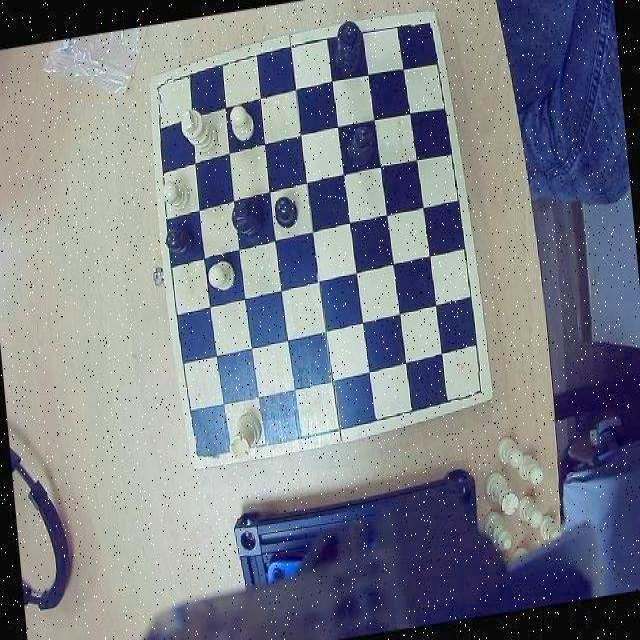chess-table-corners: (188, 433, 222, 467), (456, 370, 489, 404), (410, 15, 440, 44), (149, 72, 176, 104)
